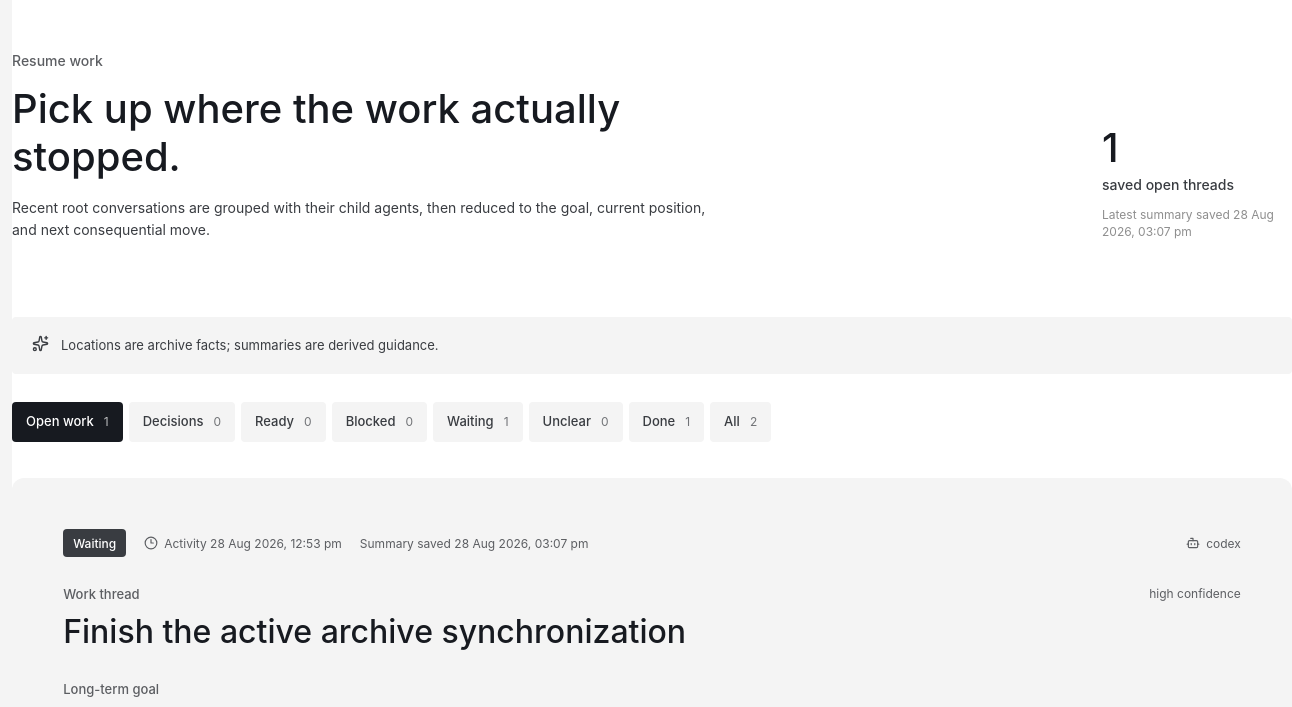
Test case: resume dashboard › shows open work first and links each card to its root evidence
The image size is (1292, 707).
Expected: the heading "Finish the active archive synchronization" is shown, [63, 611, 686, 650]
Expected: the text "Completed evidence migration" is not shown
Click the button "Done 1" at [666, 422], box [628, 402, 704, 442]
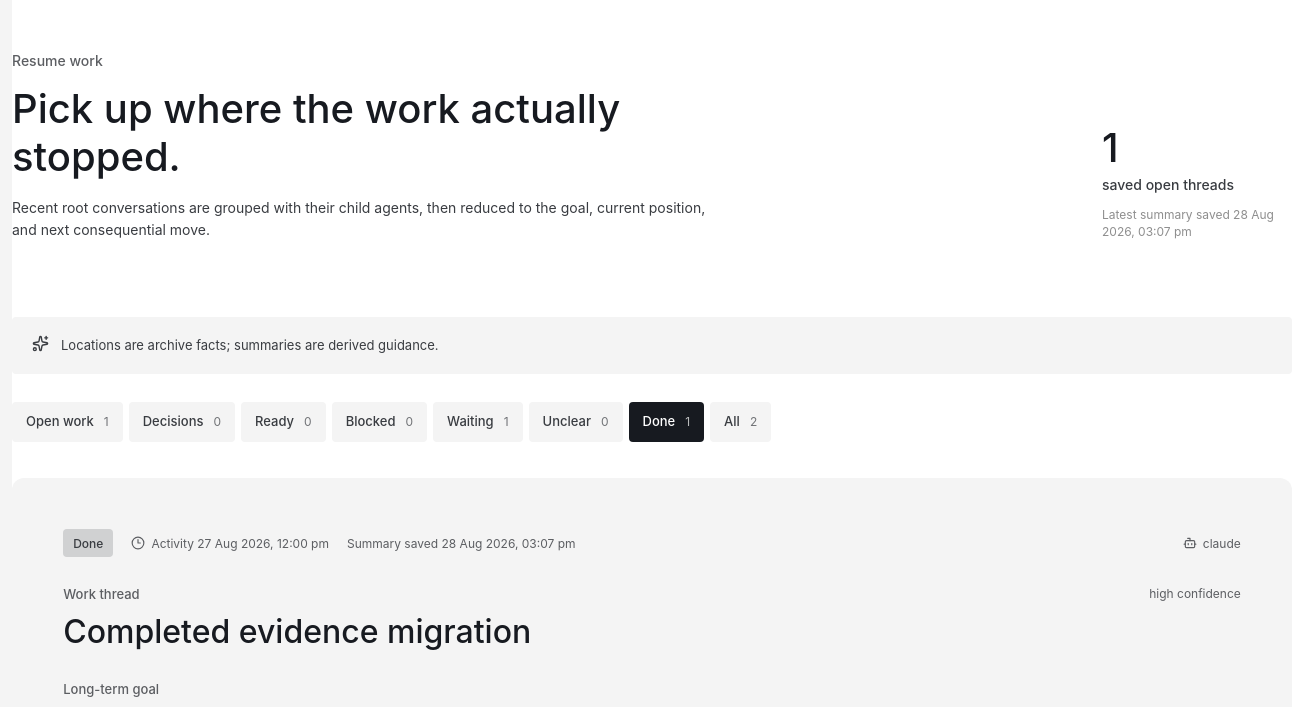
Result: the heading "Completed evidence migration" is shown at [63, 611, 531, 650]
Result: the heading "Finish the active archive synchronization" is gone
